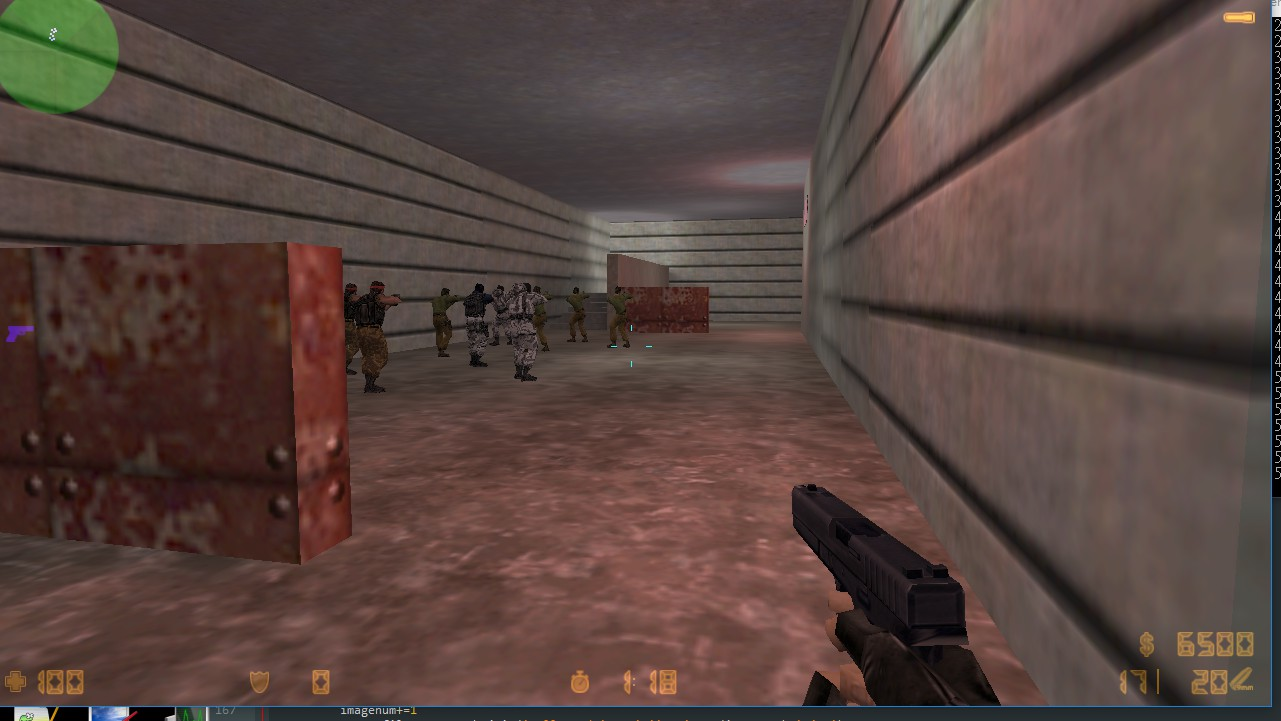person: (358, 279, 406, 395), (508, 278, 546, 386), (423, 280, 459, 363), (462, 280, 494, 371), (604, 282, 635, 352), (563, 283, 594, 349), (490, 282, 513, 348)
